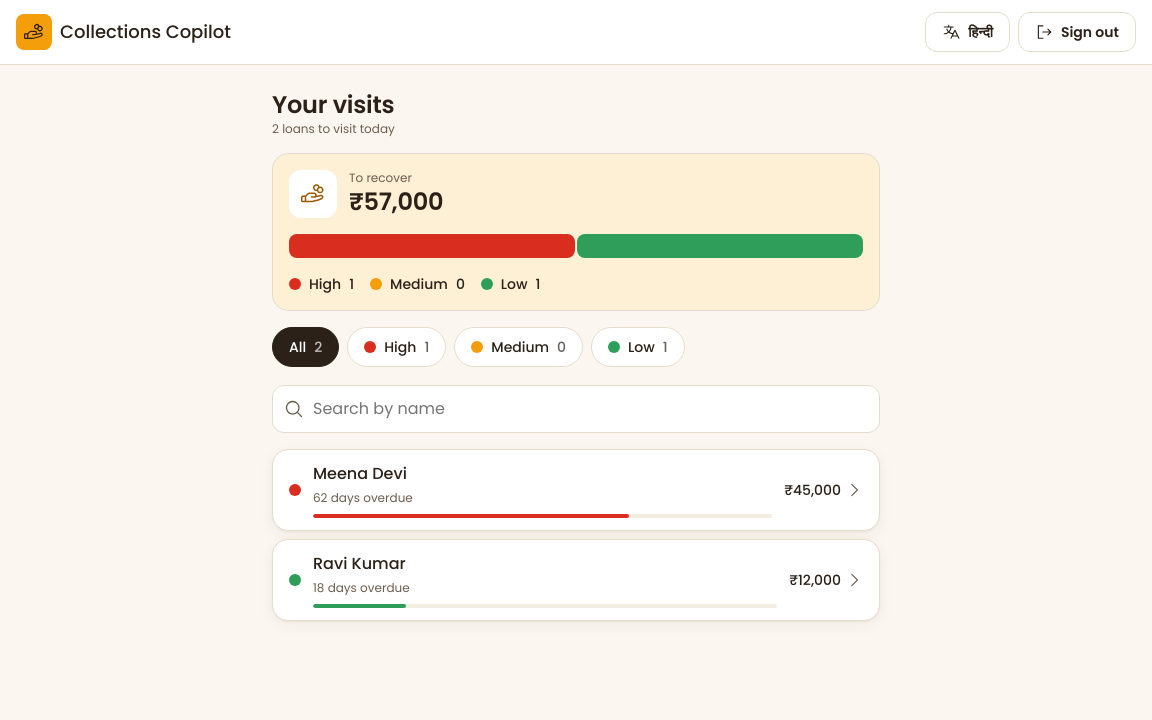
Scenario: officer list › switches to Hindi
Expected: the text "Meena Devi" is shown, [313,462,407,485]
Click the button named "Language".
click(968, 32)  # box [925,12,1010,52]
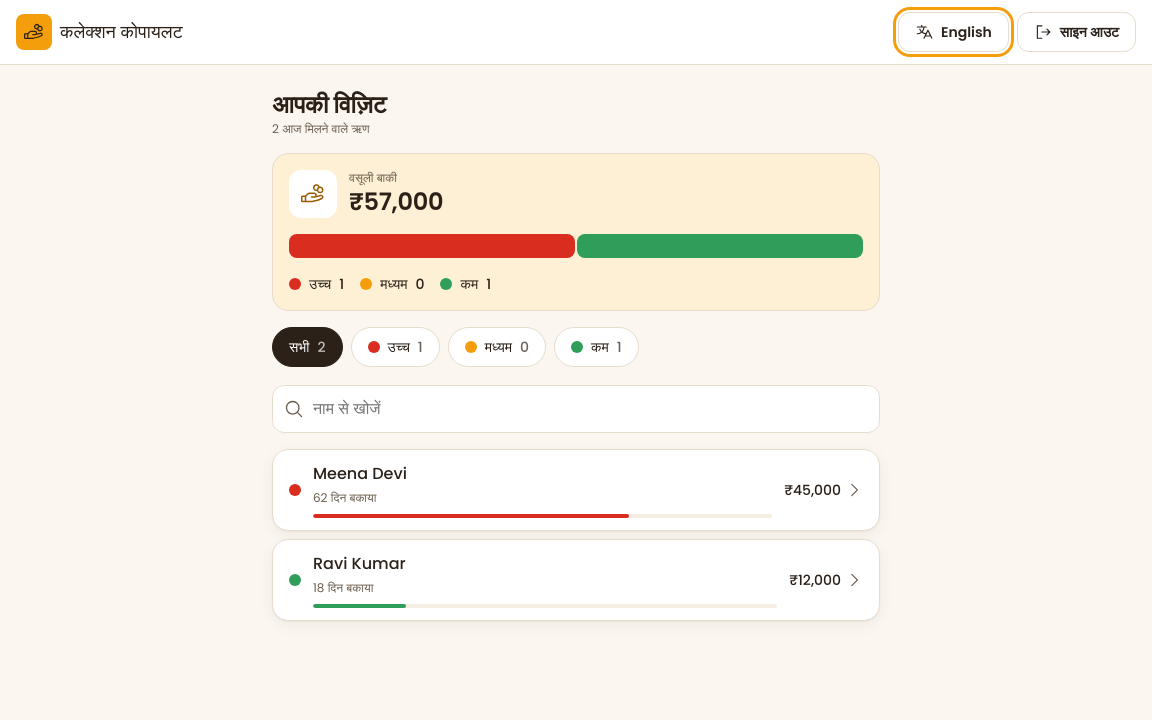
Expected: the text "62 दिन बकाया" is shown, [313,489,376,506]
